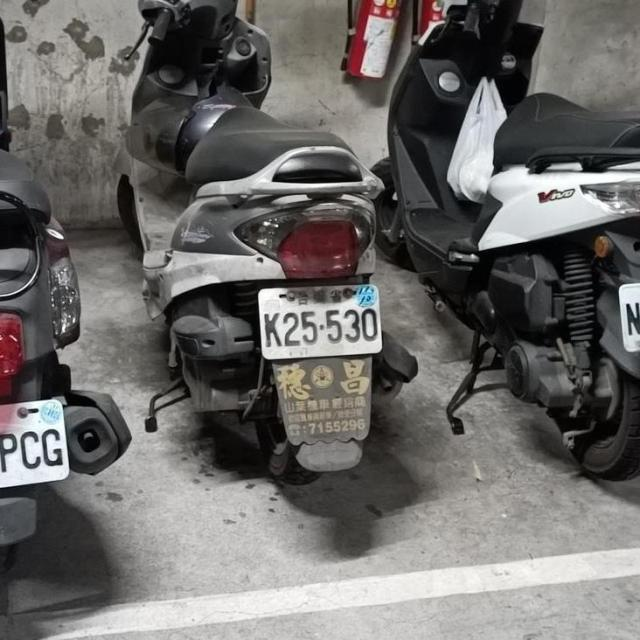W: (249, 276, 387, 363), (0, 394, 73, 498), (609, 262, 640, 358)
